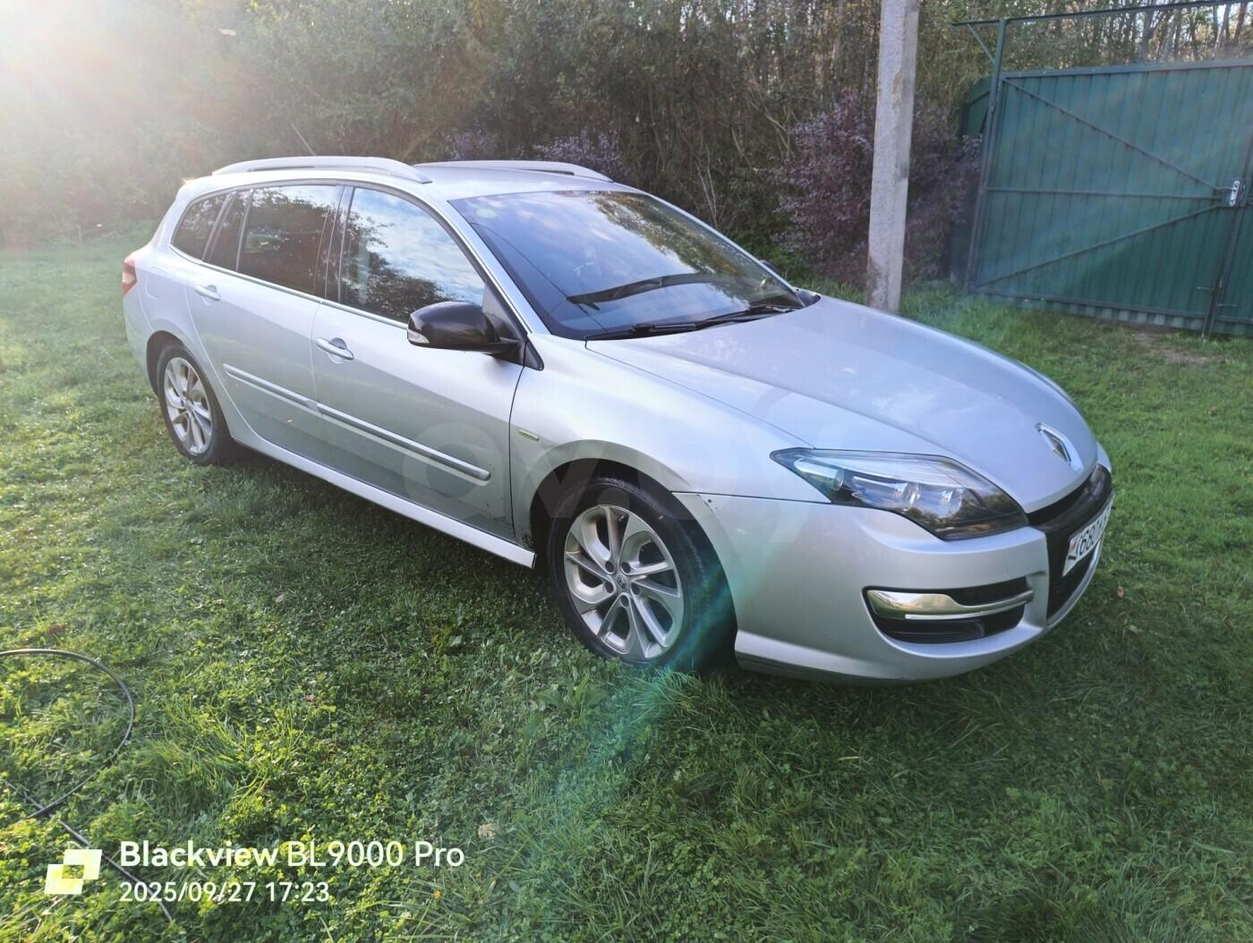Laguna_2010-2015: (119, 152, 1124, 708)
